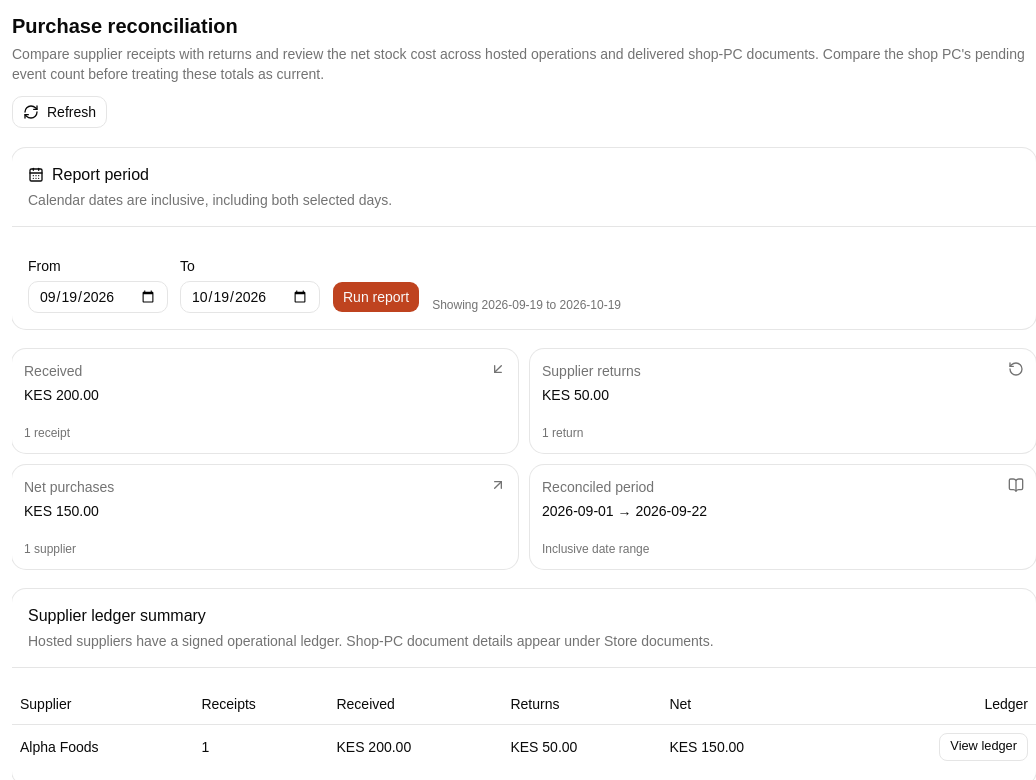
Scenario: applies a valid date range and rejects an inverted range locally
The image size is (1036, 780).
Expected: the text "Net purchases" is shown, left=24, top=477, right=114, bottom=497
In the date field labelled "From": (98, 297) left=28, top=281, right=168, bottom=313, type "2026-09-01"
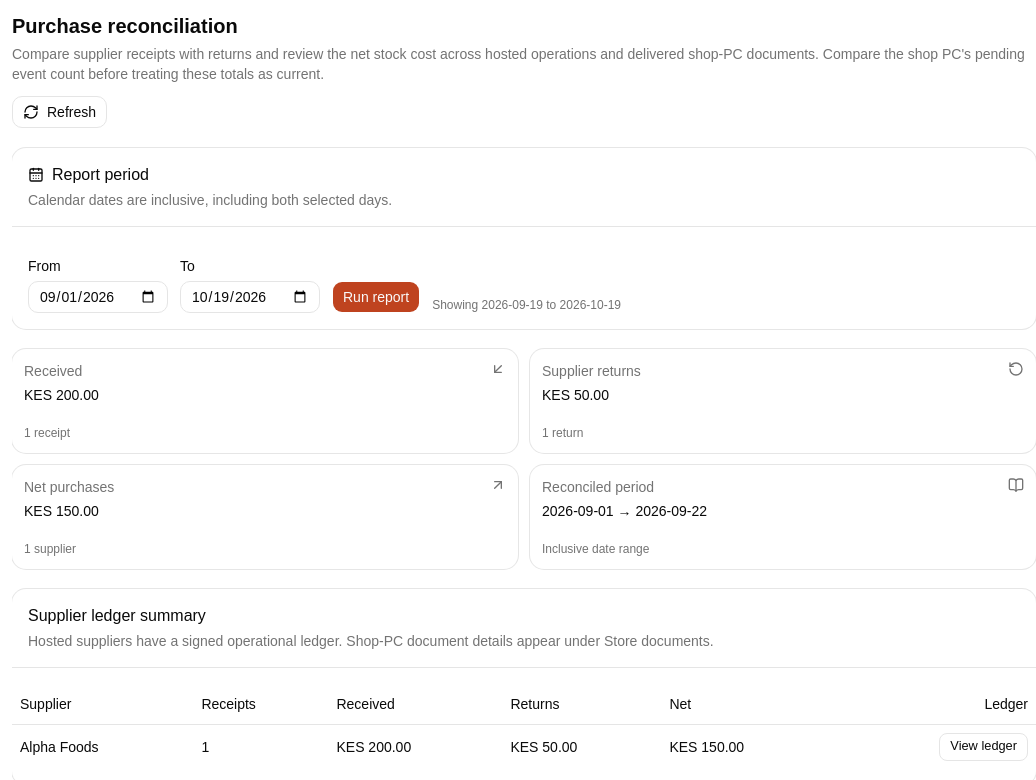
In the date field labelled "To": (250, 297) left=180, top=281, right=320, bottom=313, type "2026-09-15"
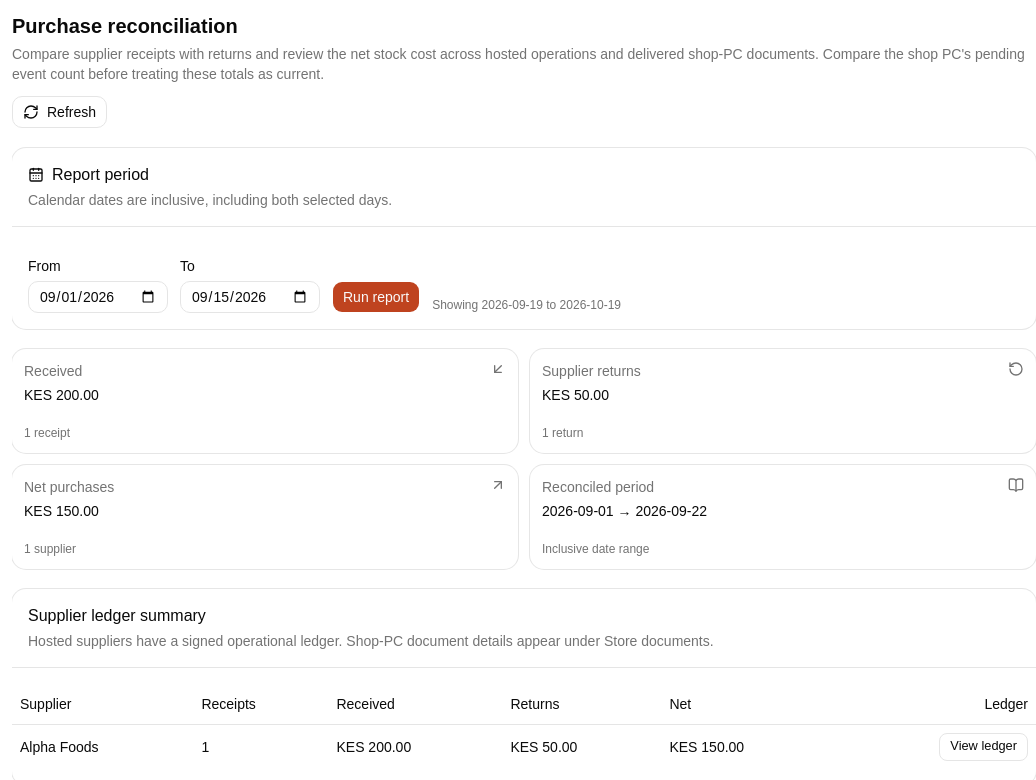
Click the button "Run report": click(376, 297) left=332, top=281, right=420, bottom=313
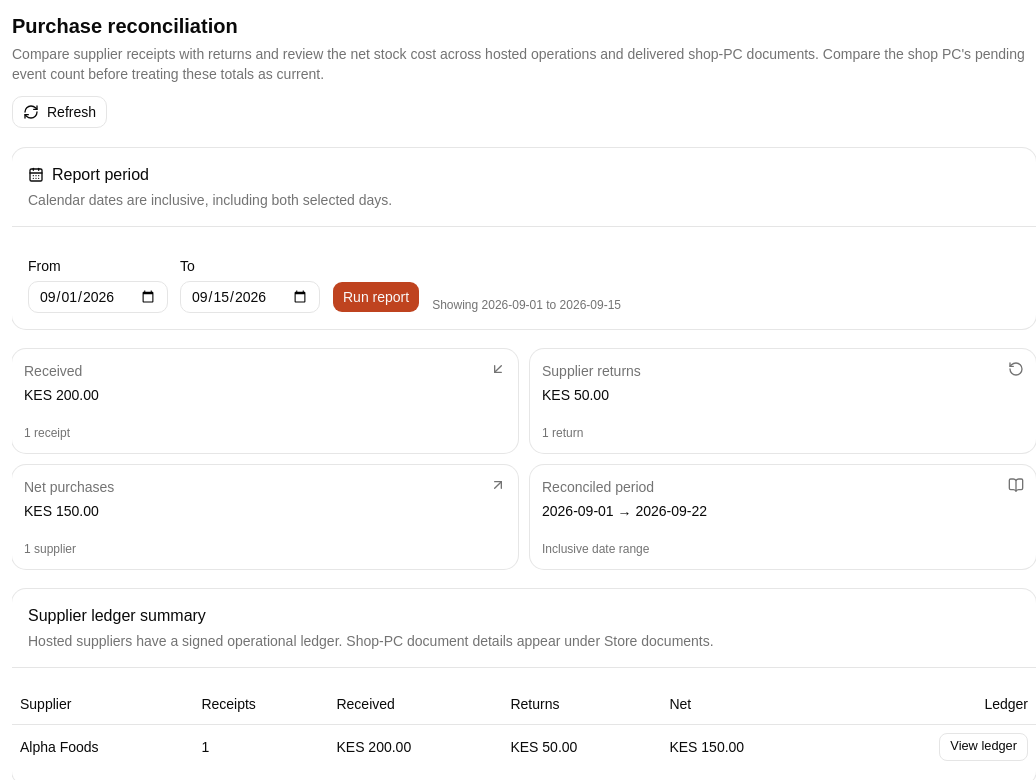
In the date field labelled "From": (98, 297) left=28, top=281, right=168, bottom=313, type "2026-09-20"
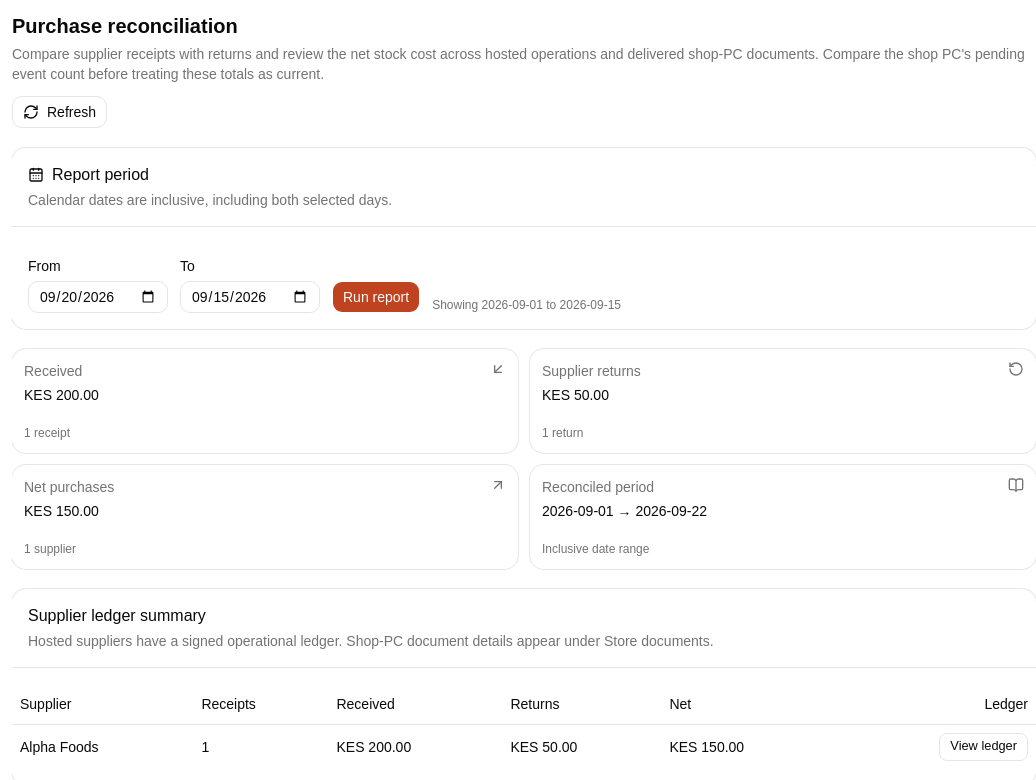
In the date field labelled "To": (250, 297) left=180, top=281, right=320, bottom=313, type "2026-09-10"
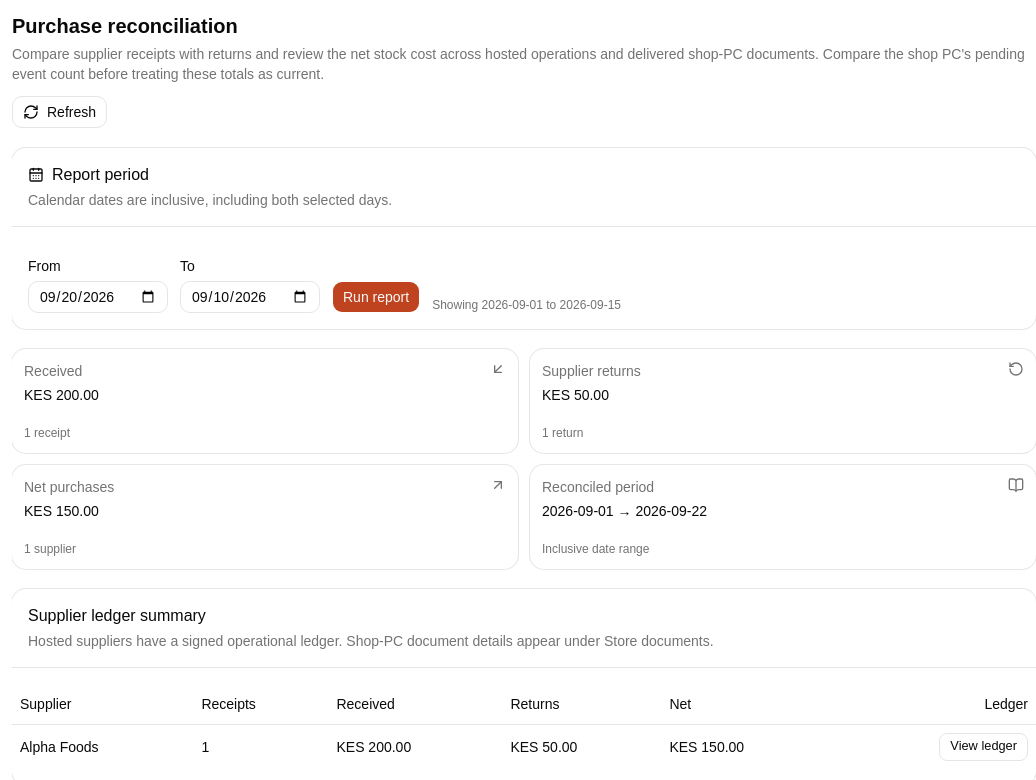
Click the button "Run report": click(376, 297) left=332, top=281, right=420, bottom=313
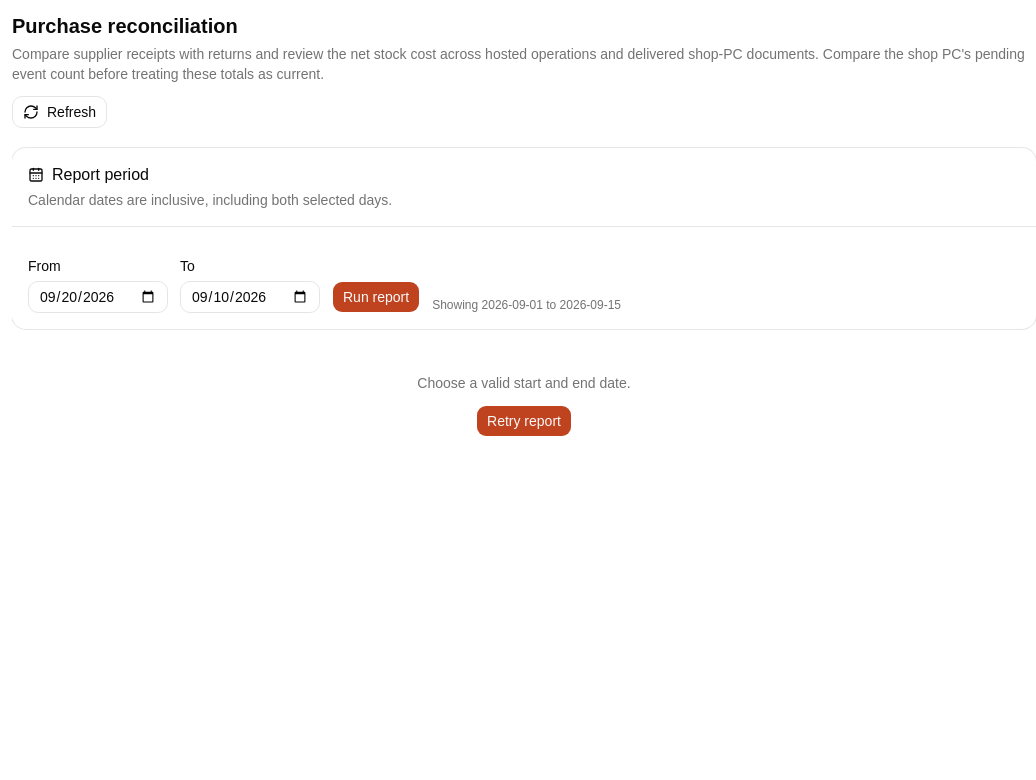
Expected: the text "Choose a valid start and end date." is shown, left=417, top=373, right=631, bottom=393
